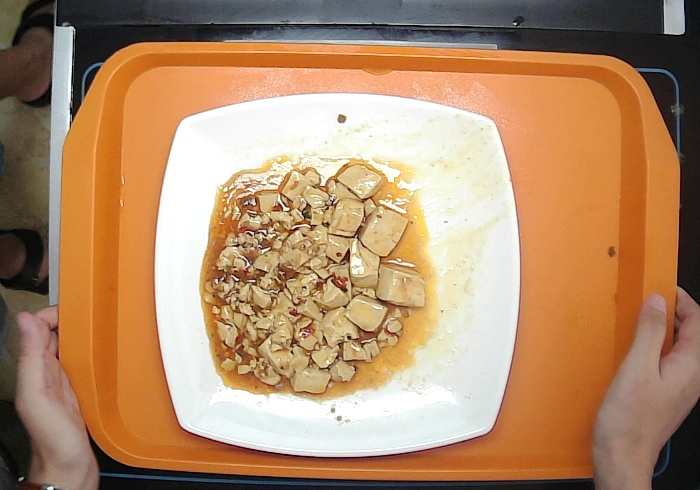ZNLD-Bai_Fang_Pan: (153, 91, 523, 461)
